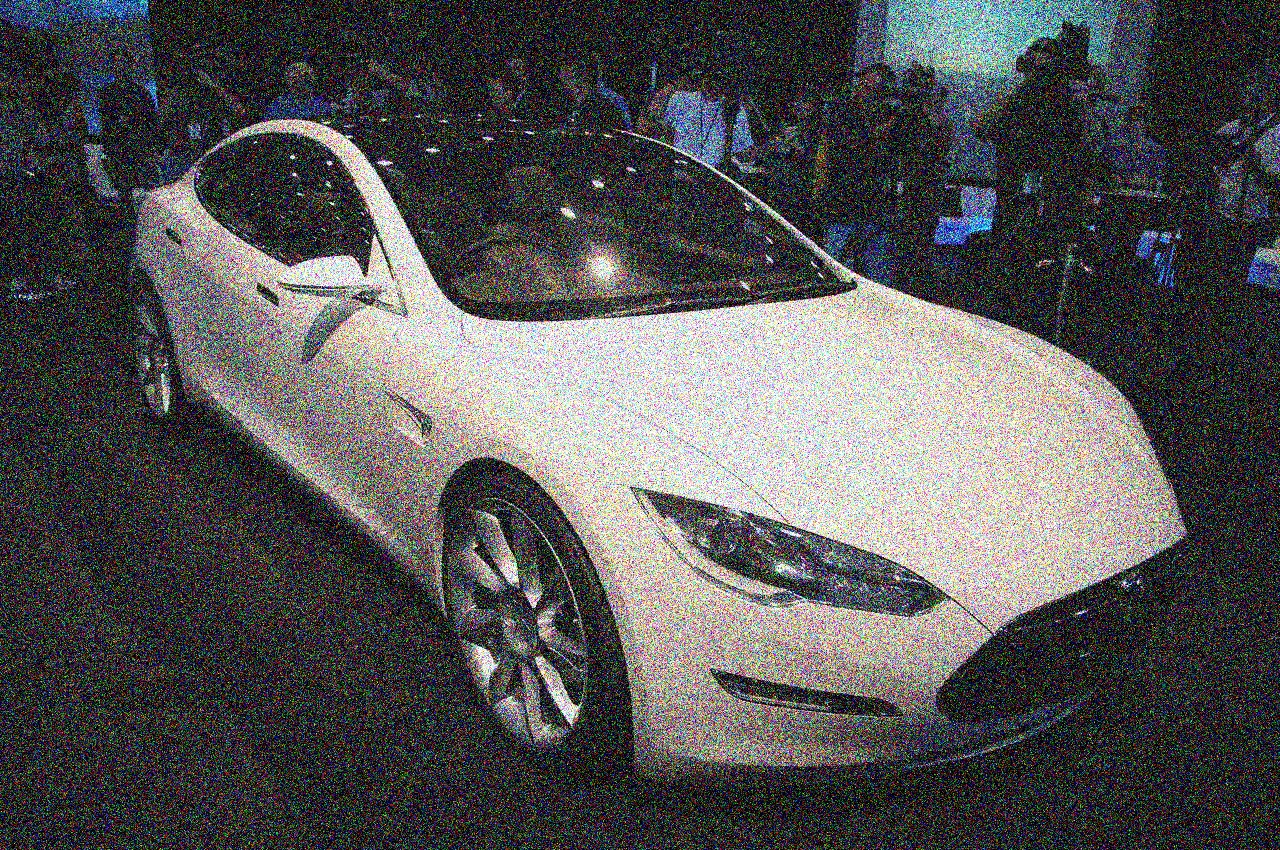car: (99, 95, 1229, 808)
